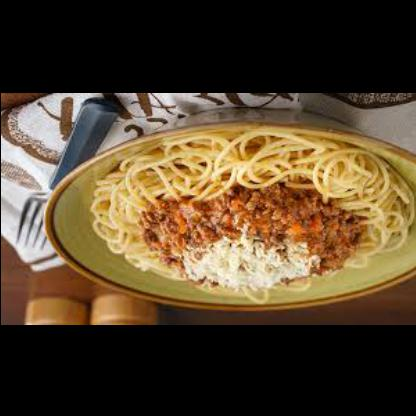spaghetti: (88, 132, 416, 304)
